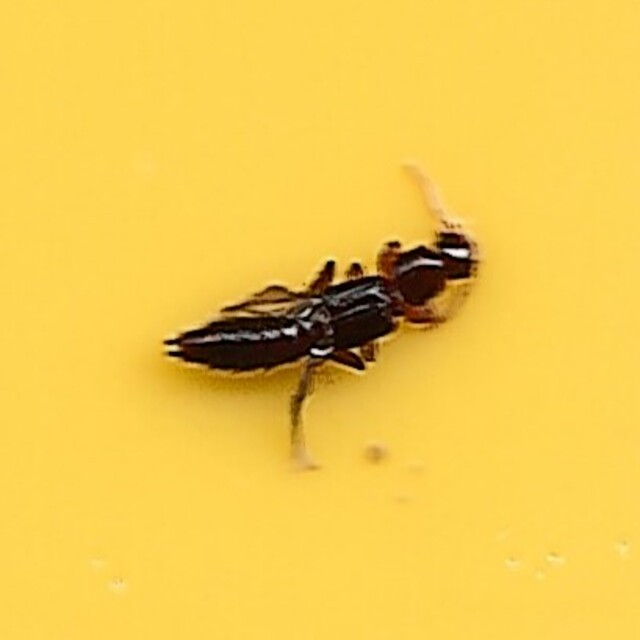Coleoptera: (156, 167, 484, 473)
